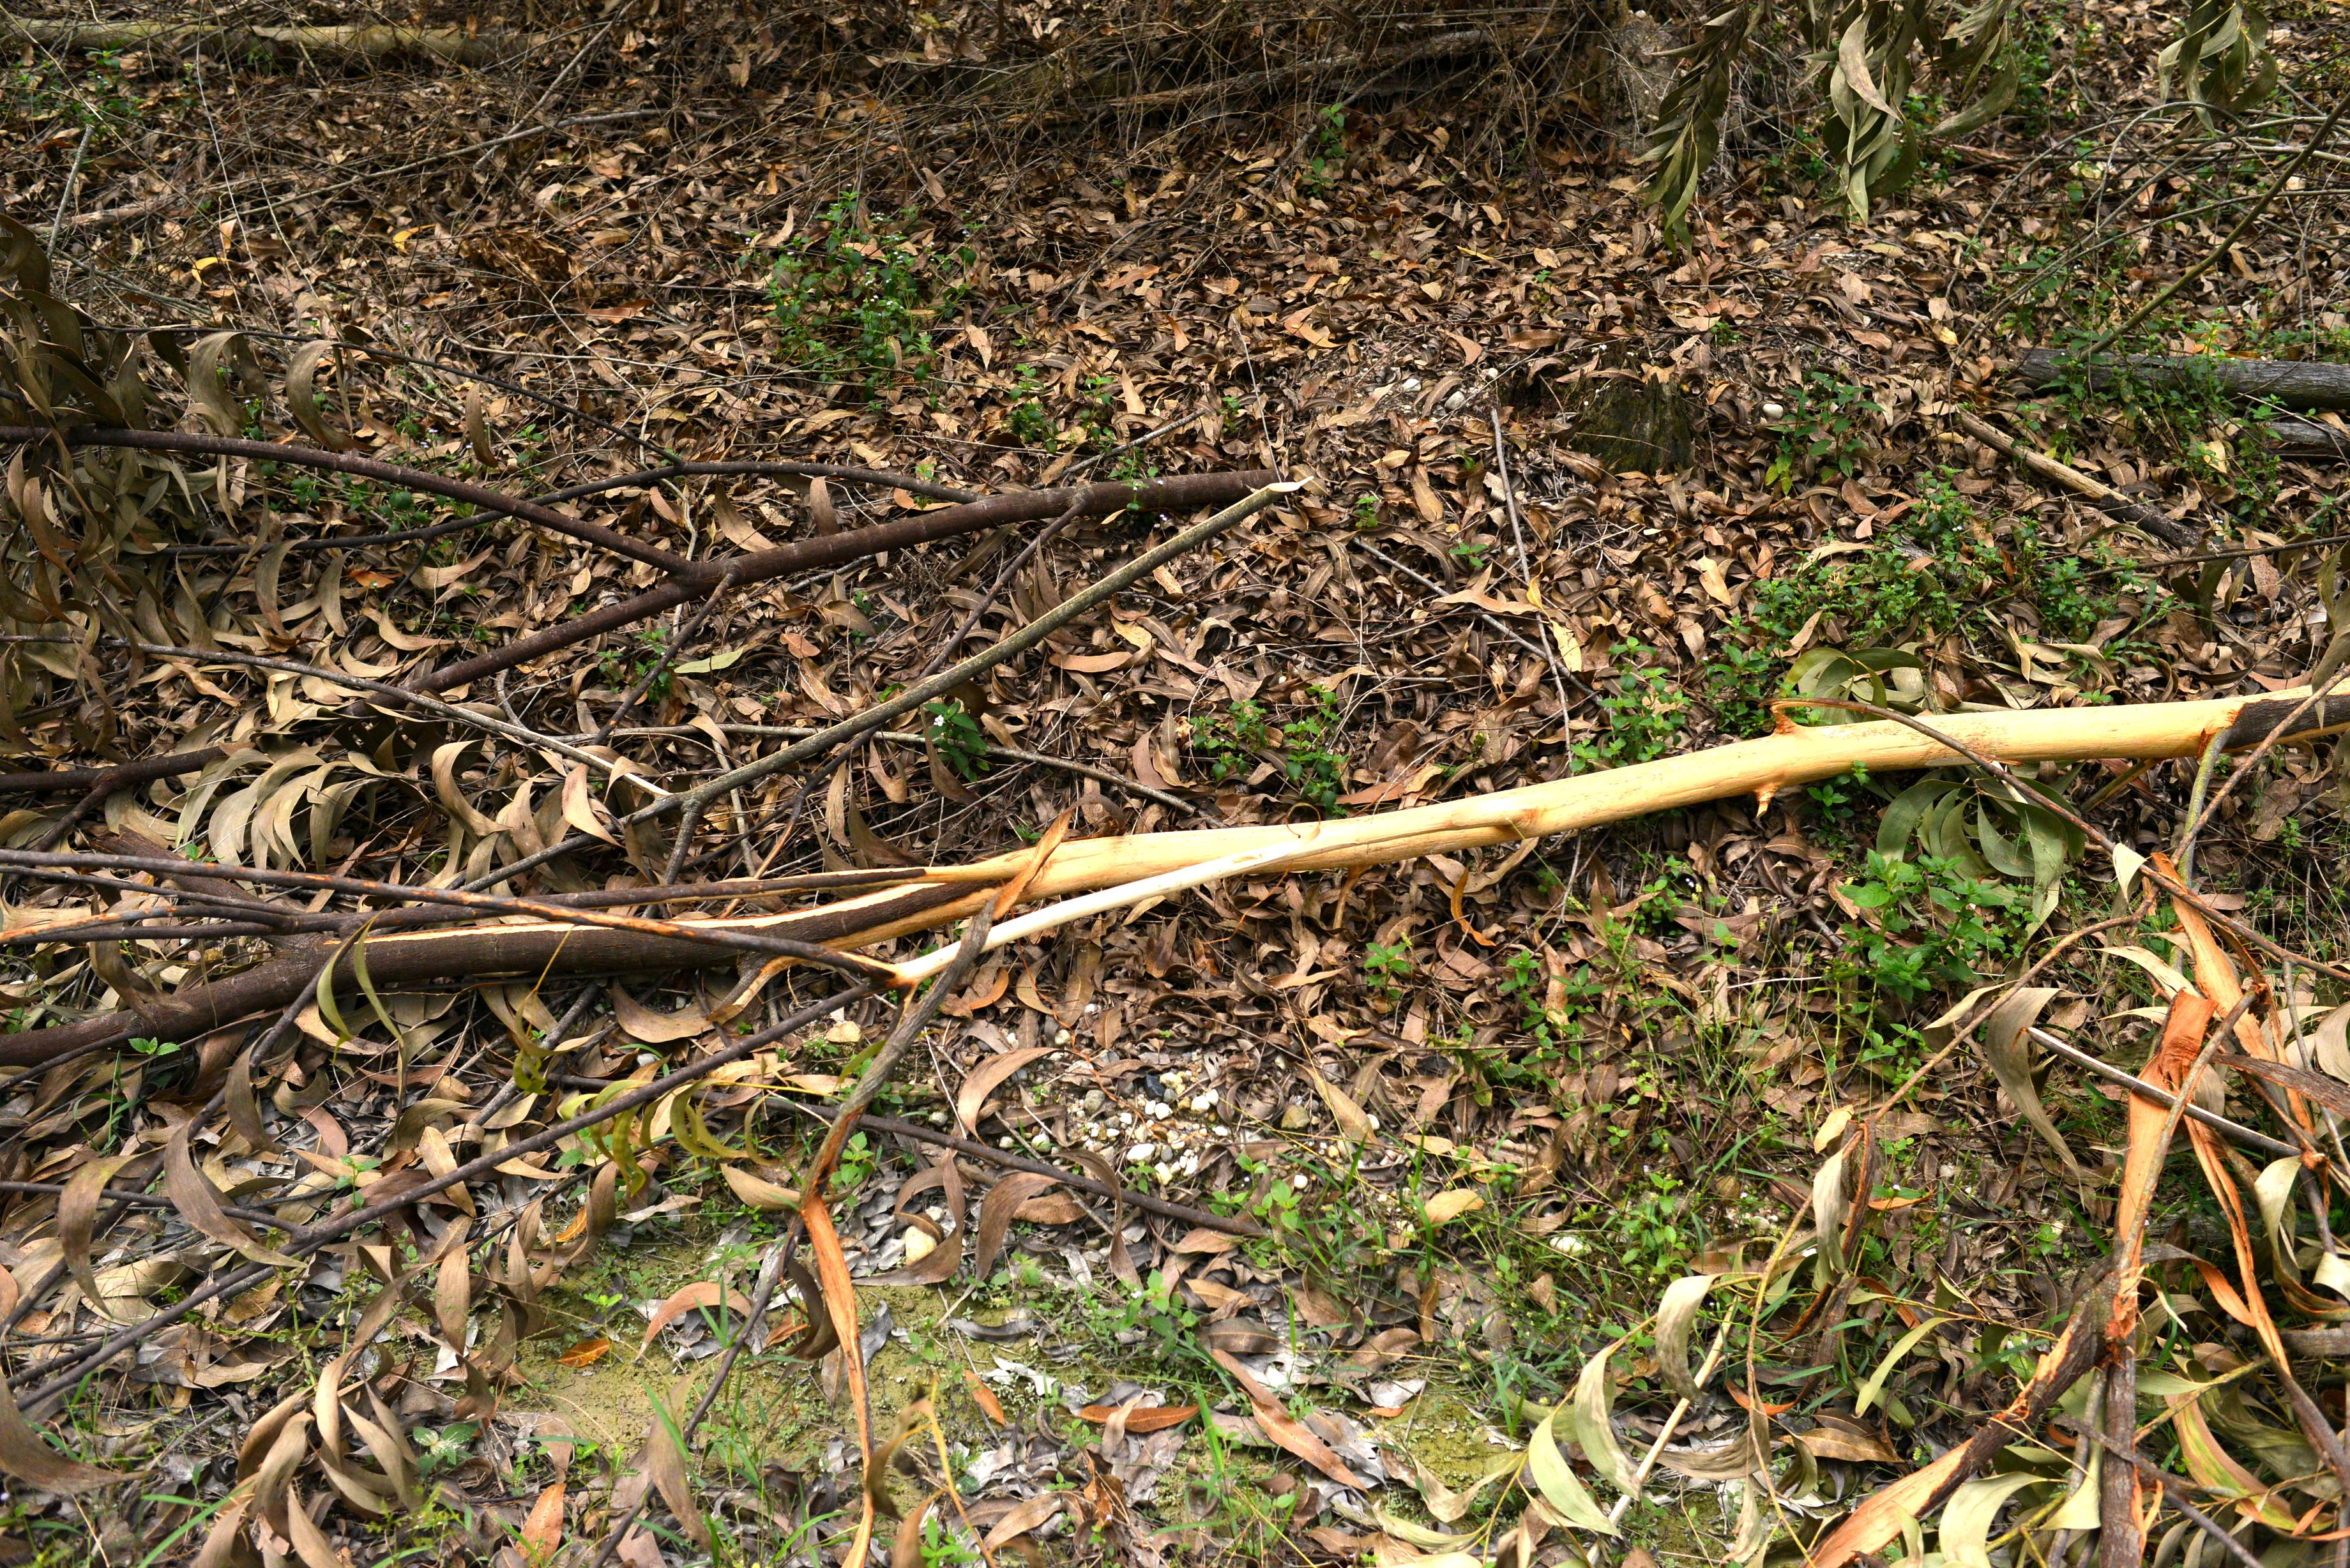Mammals Attack: (180, 688, 2348, 985)
